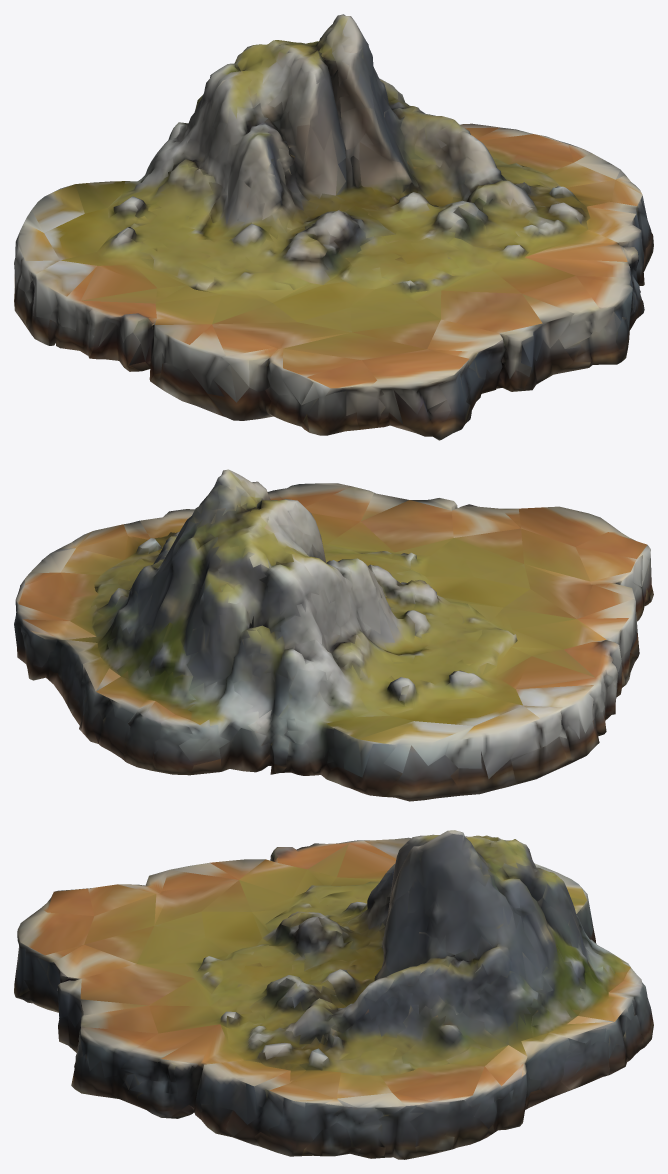
File: AnchorIsland1_0.5mb.fbx
The picture shows the model from 3 angles, top to bottom: view 1: azimuth 30°, elevation 25°; view 2: azimuth 150°, elevation 25°; view 3: azimuth 270°, elevation 25°; orthographic projection. The views are drawn at different scales.
Parts seen in each view (by area): view 1: Mesh_0; view 2: Mesh_0; view 3: Mesh_0.
Part boxes in pixels (x1,y1,x2,y2): Mesh_0: [14, 14, 653, 440]; Mesh_0: [14, 469, 653, 801]; Mesh_0: [14, 830, 653, 1159].
Size of the model in its own units: 200 by 77.79 by 200.
Materials: 1 (1 with a texture image).
